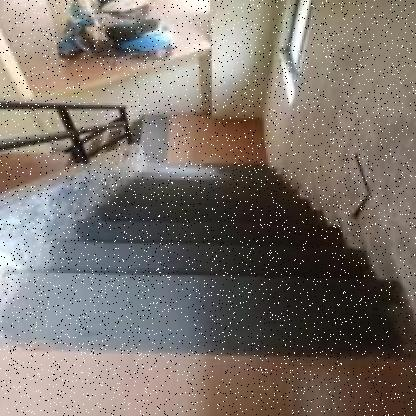stair_down: (58, 189, 320, 322)
